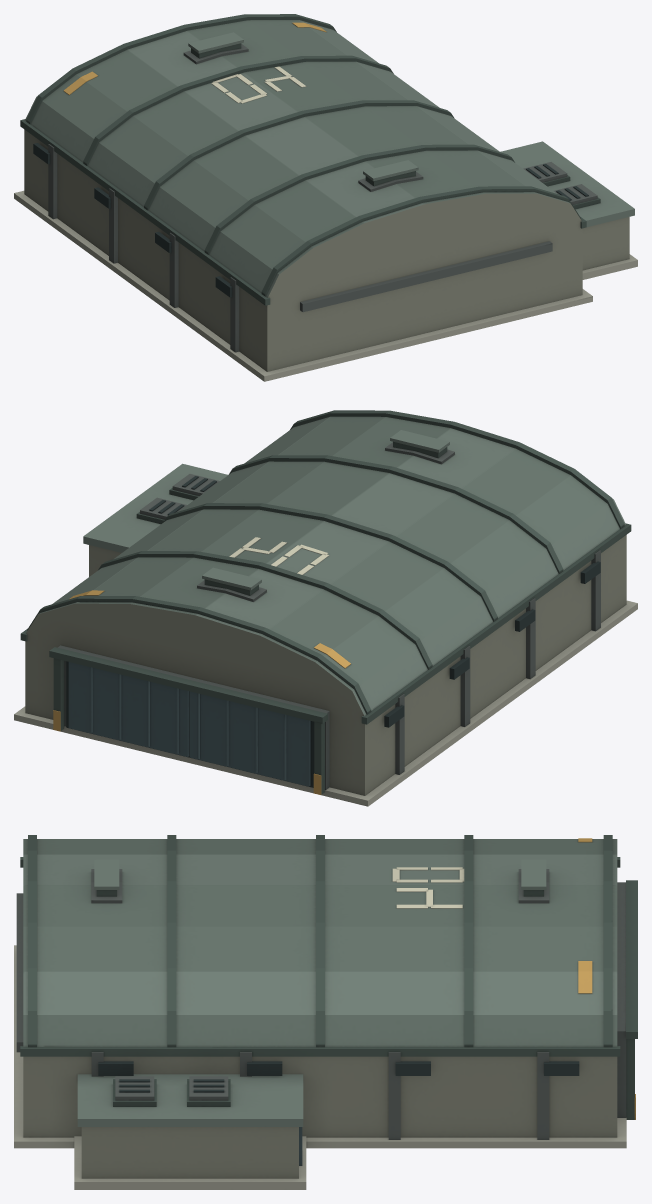
The model's file is Hangar-04.fbx.
3 renders of one model, top to bottom at view 1: azimuth 30°, elevation 25°; view 2: azimuth 150°, elevation 25°; view 3: azimuth 270°, elevation 25°, orthographic. The views are drawn at different scales.
Parts seen in each view (by area): view 1: Hangar-04; view 2: Hangar-04; view 3: Hangar-04.
Part boxes in pixels (box(x1,y1,x2,y2)): Hangar-04: box(14, 14, 637, 381); Hangar-04: box(14, 410, 637, 806); Hangar-04: box(14, 835, 637, 1189).
Bounding box in the file's own units: 3030 × 1052 × 3361.
Materials: 1 (1 with a texture image).
